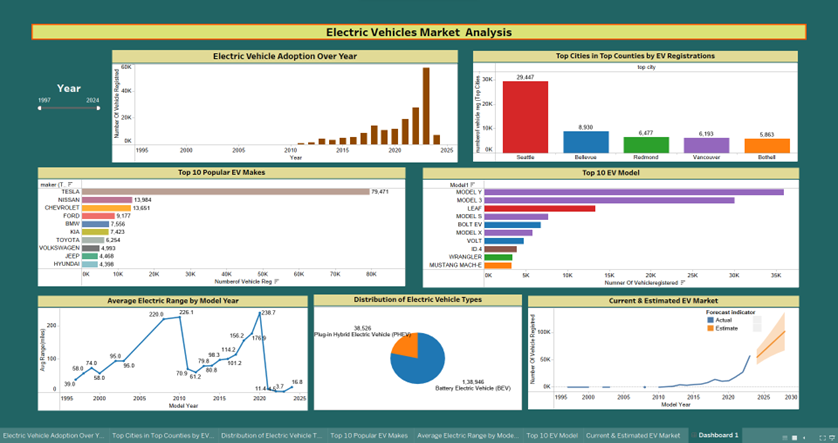

This screenshot's page, from the dashboard's own definition file:
{"tool":"tableau","page":{"name":"Dashboard 1","canvas":[1800,950],"ordinal":0},"visuals":[{"type":"title","box":[8,8,1784,47]},{"type":"worksheet","title":"Electric Vehicle Adoption Over Year","mark":"Bar","rows":["number_of_vehicle_registred"],"cols":["year"],"box":[197,64,792,286]},{"type":"worksheet","title":"Top Cities in Top Counties by EV Registrations","mark":"Automatic","rows":["numberof_vehicle_reg (Top Cities in Top Counties by EV Regis"],"cols":["city (Top Cities in Top Counties by EV Registrations.csv)"],"box":[1024,64,744,284]},{"type":"filter","title":"Electric Vehicle Adoption Over Year","param":"[federated.0kthwok0d31j0s1eqe7gj0lx3nwg].[none:year:qk]","box":[22,151,152,92]},{"type":"worksheet","title":"Top 10 Popular EV Makes","mark":"Automatic","rows":["maker (Top 10 Popular EV Makes.csv)"],"cols":["numberof_vehicle_reg"],"box":[27.5,362,842.2,290]},{"type":"worksheet","title":"Top 10 EV Model","mark":"Automatic","rows":["model"],"cols":["numner_of_vehicleregistered"],"box":[908.5,363,862.1,292]},{"type":"worksheet","title":"Distribution of Electric Vehicle Types","mark":"Pie","box":[659.4,672,477.5,282]},{"type":"worksheet","title":"Current & Estimated EV Market","mark":"Automatic","rows":["number_of_vehicle_registred"],"cols":["modelYear"],"box":[1150.1,675,621.5,277]},{"type":"legend","title":"Current & Estimated EV Market","param":"[federated.0kthwok0d31j0s1eqe7gj0lx3nwg].[none:Forecast Indicator:nk]","box":[1558.4,708,128.8,55]}]}

Visuals, with their boxes on the page's 1800x950 design canvas (x1, y1, x2, y2). These are canvas units, not pixel positions in the 838x443 screenshot, which may show the page scaled, cropped or inside an application window:
title: l=8, t=8, r=1792, b=55
"Electric Vehicle Adoption Over Year" worksheet (Bar marks): l=197, t=64, r=989, b=350
"Top Cities in Top Counties by EV Registrations" worksheet: l=1024, t=64, r=1768, b=348
"Electric Vehicle Adoption Over Year" filter: l=22, t=151, r=174, b=243
"Top 10 Popular EV Makes" worksheet: l=28, t=362, r=870, b=652
"Top 10 EV Model" worksheet: l=908, t=363, r=1771, b=655
"Distribution of Electric Vehicle Types" worksheet (Pie marks): l=659, t=672, r=1137, b=954
"Current & Estimated EV Market" worksheet: l=1150, t=675, r=1772, b=952
"Current & Estimated EV Market" legend: l=1558, t=708, r=1687, b=763
